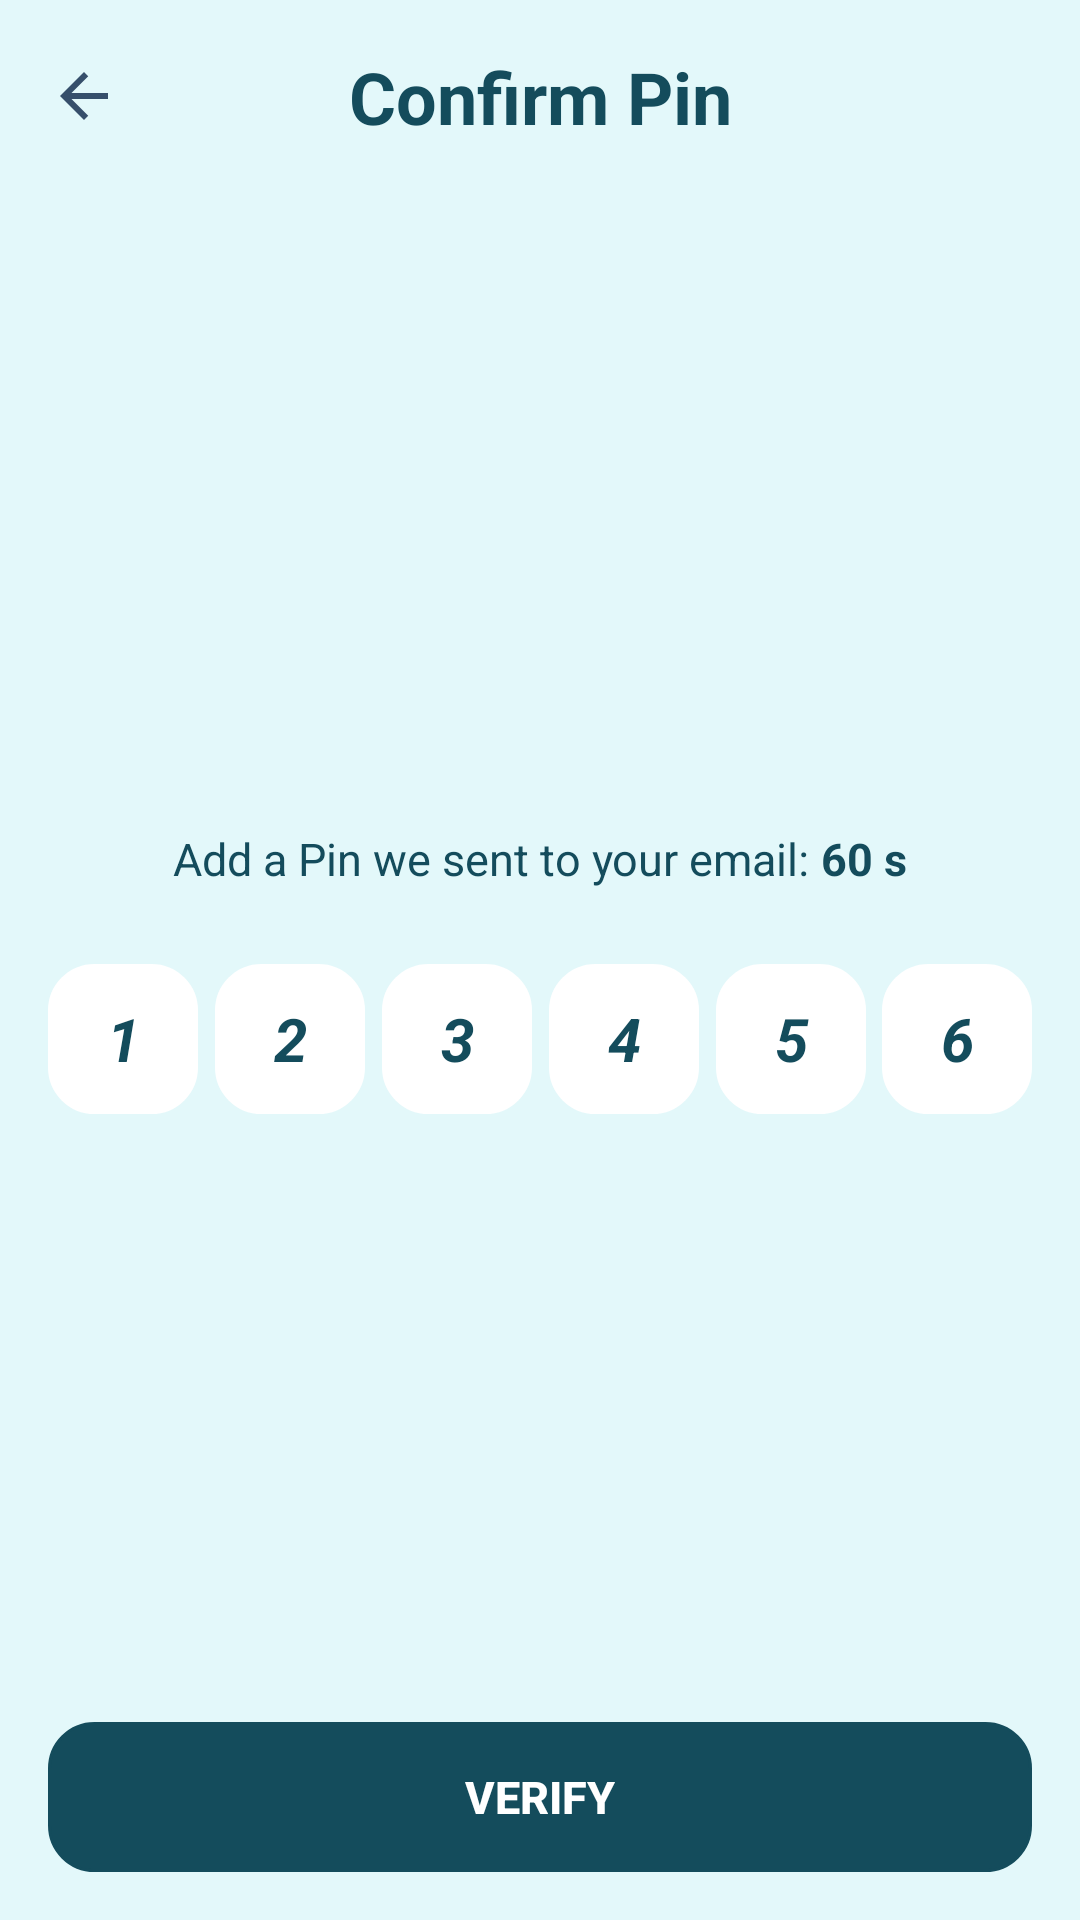

Locate icon controls on the screen. Image size 1080px x 1920px, boxes as box=[x1, y1, x2, y2].
arrow back: box=[60, 72, 108, 120]
